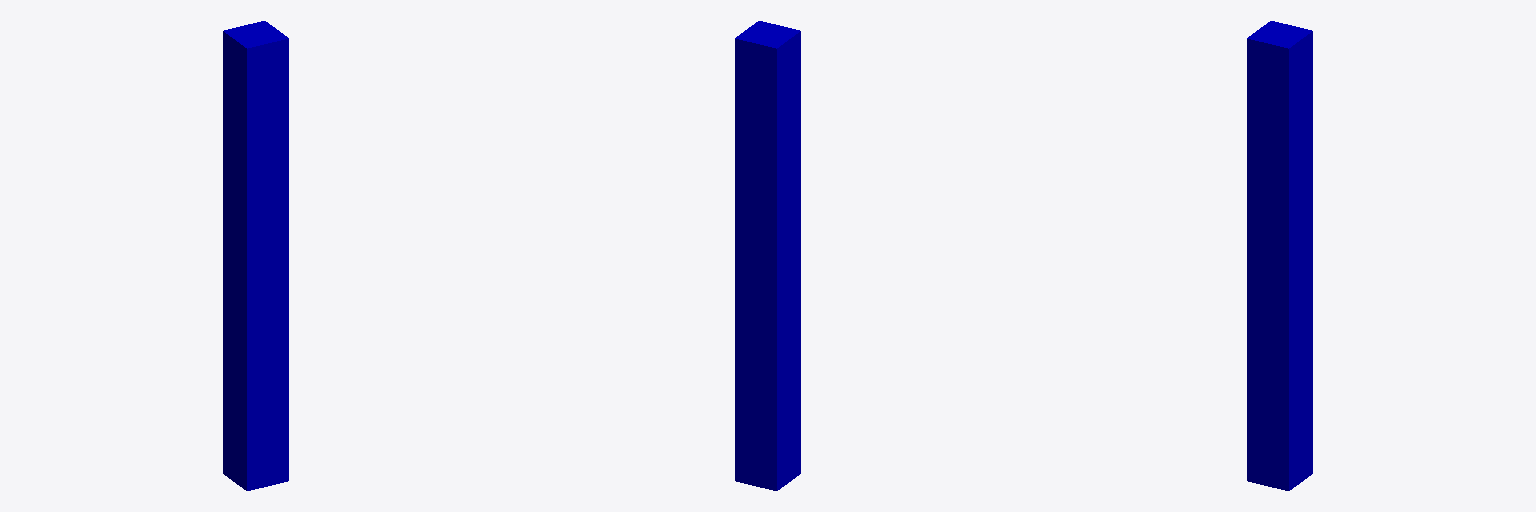
URDF robot description (cube):
<?xml version="1.0"?>
<robot name="cube">

<link name="base_link">

    <inertial>
      <mass value="0.1"/>
      <origin rpy="0 0 0" xyz="0 0 -0.05"/>
      <inertia ixx="1e-3" ixy="0.0" ixz="0.0" iyy="1e-3" iyz="0.0" izz="1e-3"/>
    </inertial>

</link>

  <link name="link_1">

    <contact>
        <lateral_friction value="4.0"/>
    </contact>

    <visual>
      <origin rpy="0 0 0" xyz="0 0 0"/>
      <geometry>
        <box size="0.02 0.02 0.20"/>
      </geometry>
      <material name="blue">
        <color rgba="0 0 .8 1"/>
      </material>
    </visual>

    <collision>
      <origin rpy="0 0 0" xyz="0 0 0"/>
      <geometry>
        <box size="0.02 0.02 0.20"/>
      </geometry>
    </collision>

    <inertial>
      <mass value="0.1"/>
      <origin rpy="0 0 0" xyz="0 0 0"/>
      <inertia ixx="1e-3" ixy="0.0" ixz="0.0" iyy="1e-3" iyz="0.0" izz="1e-3"/>
    </inertial>

  </link>

<joint name="joint_Center" type="fixed">
    <origin rpy="0 0 0" xyz="0 0 0"/>
    <parent link="base_link"/>
    <child link="link_1"/>
    <axis xyz="0.0 0.0 0.0"/>
    <limit lower="0.0" upper="0.0" effort="0.0" velocity="0.0"/>
</joint>

</robot>

--- What the picture shows (computed from the rendered views, not written in the file) ---
3 views of the same robot in one strip: view 1: azimuth 30°, elevation 25°; view 2: azimuth 150°, elevation 25°; view 3: azimuth 330°, elevation 25° (orthographic).
Robot: cube — 2 links, 1 joints (1 fixed); root link base_link; default pose: every joint at zero.
Links seen in each view (by area): view 1: link_1; view 2: link_1; view 3: link_1.
Boxes of the visible links, x1=… form: link_1: x1=223, y1=21, x2=288, y2=490; link_1: x1=735, y1=21, x2=800, y2=490; link_1: x1=1247, y1=21, x2=1312, y2=490.
Size in the robot's own frame: 0.02 by 0.02 by 0.2 metres.
Geometry: primitives only (box / cylinder / sphere), no mesh files.